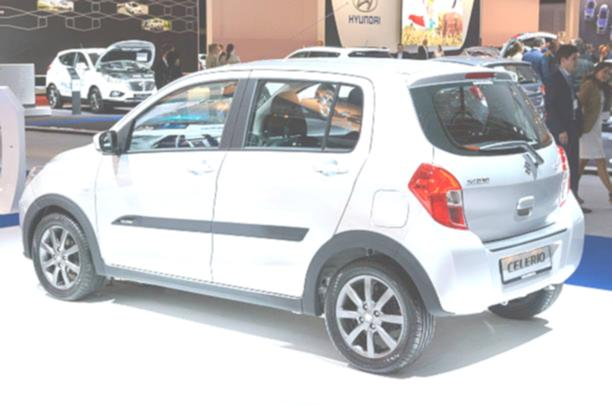suzuki: (519, 158, 536, 181)
